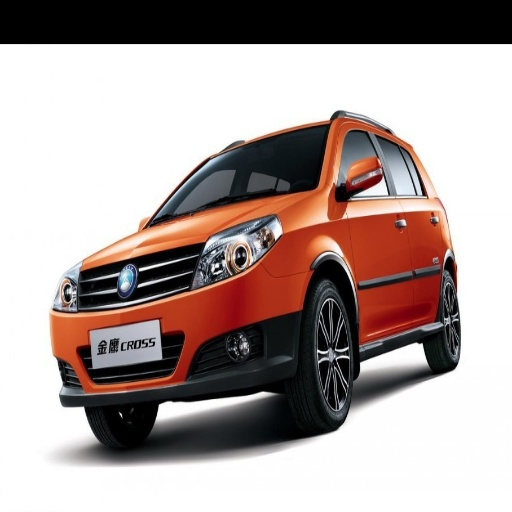front_bumper: (49, 242, 309, 403)
front_glass: (149, 126, 328, 224)
front_left_door: (331, 119, 413, 334)
